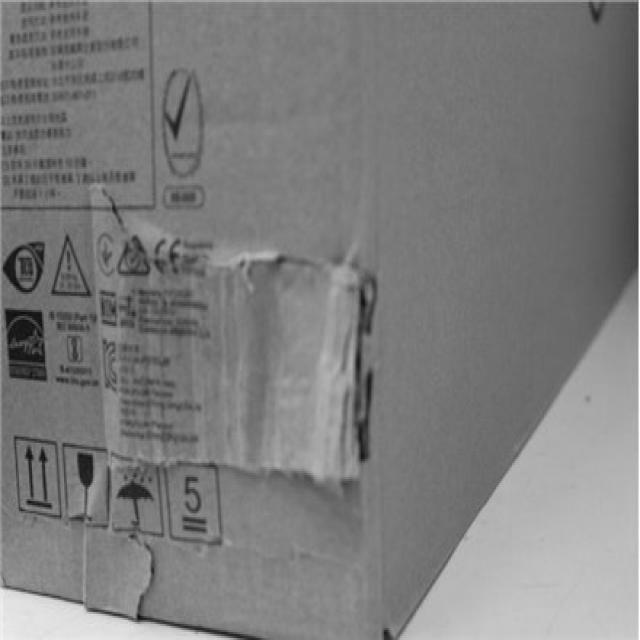hole: (336, 271, 387, 475)
